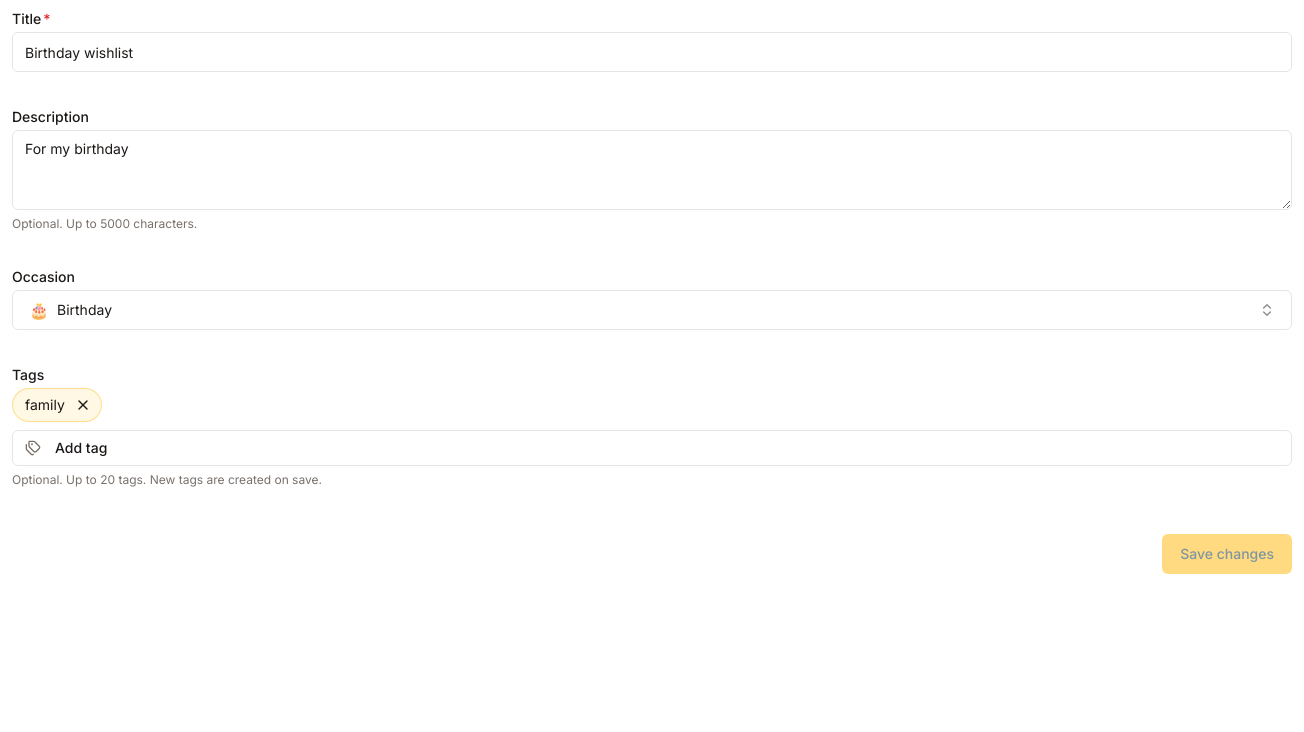
Test: ListForm (edit mode) › surfaces an inline validation error via setError (422 mapping)
Type "Renamed" into the field showing "Birthday wishlist" at (652, 52), box [12, 32, 1292, 72]
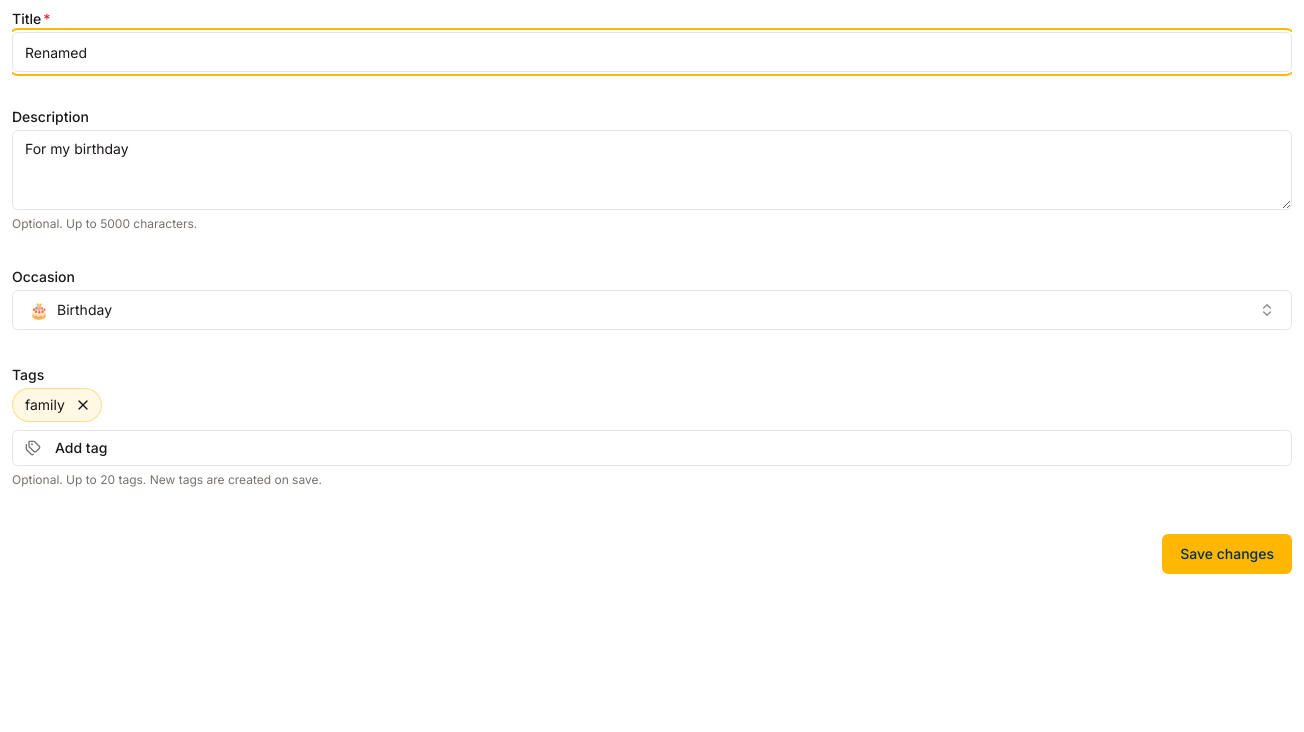
Click the button "Save changes" at (1227, 554), box [1162, 534, 1292, 574]
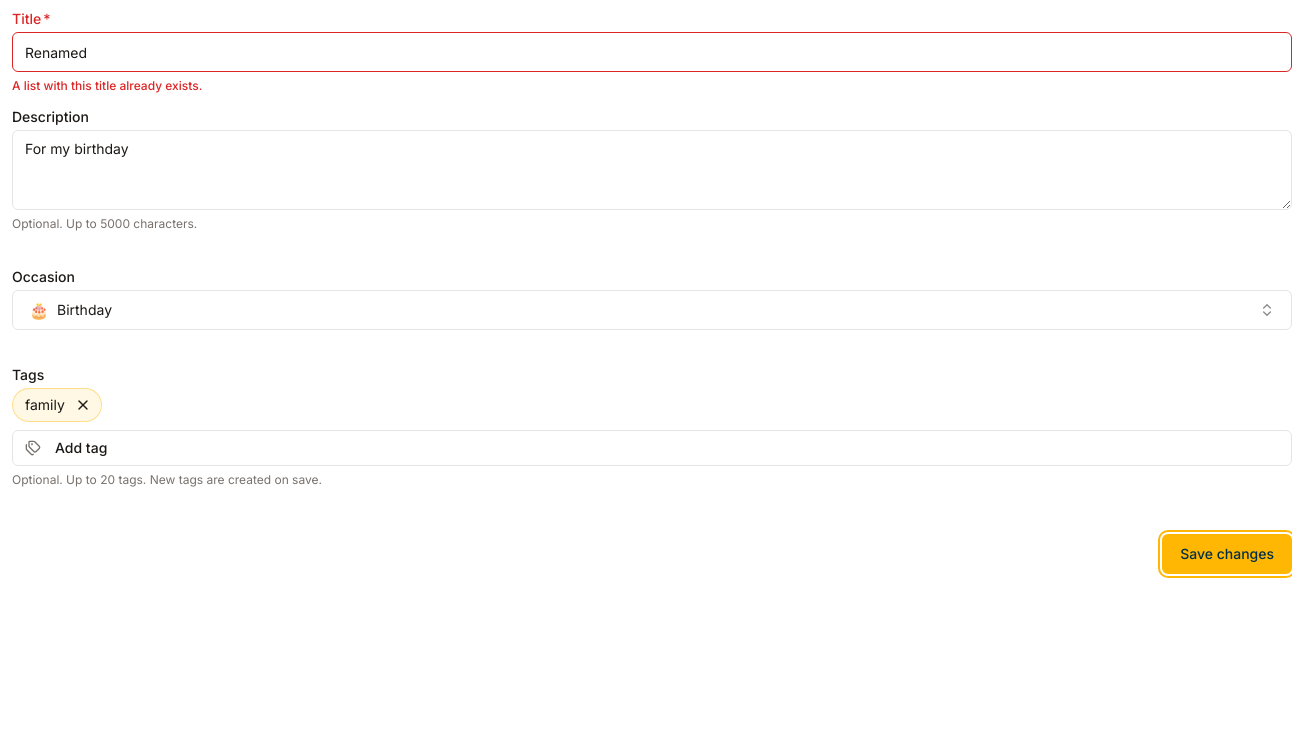
Check: the text "A list with this title already exists." is shown, box [12, 78, 202, 93]
